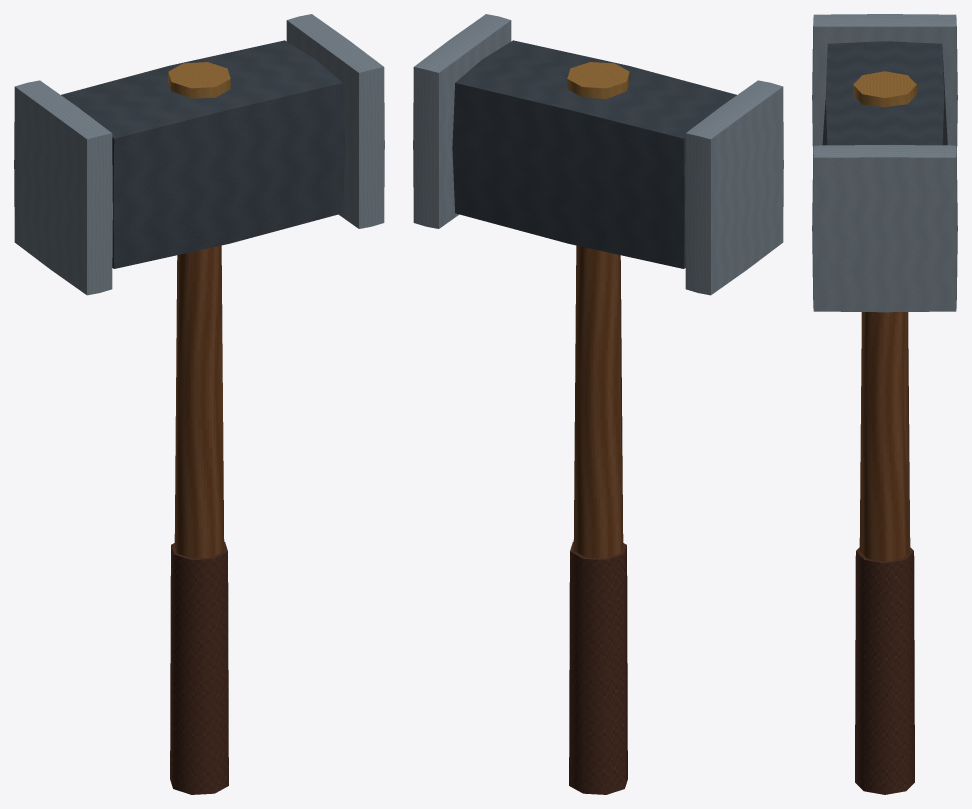
File: warhammer.lod2.glb
3 renders of one model, left to right at view 1: azimuth 30°, elevation 25°; view 2: azimuth 150°, elevation 25°; view 3: azimuth 270°, elevation 25°, orthographic.
Visible parts, largest first — view 1: iron.3, steel.4, wood.0, leather.1, steel.5, brass.2; view 2: iron.3, steel.4, wood.0, leather.1, steel.5, brass.2; view 3: steel.5, leather.1, wood.0, iron.3, steel.4, brass.2.
Part boxes in pixels (<box>): iron.3: <box>61,40,345,268</box>; steel.4: <box>14,80,112,295</box>; wood.0: <box>174,245,224,558</box>; leather.1: <box>170,542,228,794</box>; steel.5: <box>286,14,384,228</box>; brass.2: <box>168,62,230,98</box>; iron.3: <box>452,40,736,268</box>; steel.4: <box>685,80,783,295</box>; wood.0: <box>573,245,623,558</box>; leather.1: <box>569,542,627,794</box>; steel.5: <box>413,14,511,228</box>; brass.2: <box>567,62,629,98</box>; steel.5: <box>812,145,957,312</box>; leather.1: <box>855,547,914,794</box>; wood.0: <box>859,312,910,561</box>; iron.3: <box>822,41,947,145</box>; steel.4: <box>812,14,957,156</box>; brass.2: <box>853,71,916,107</box>.
Size of the model in its own units: 0.375 by 0.845 by 0.16.
5 materials, 5 textured.
